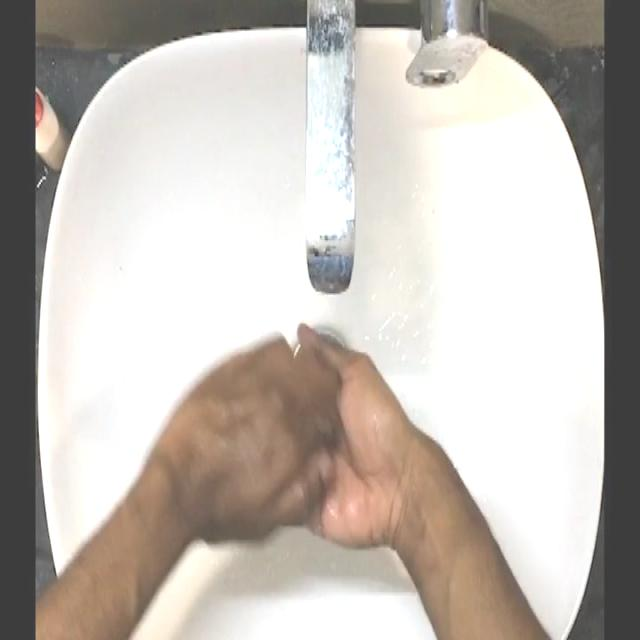step_4: (185, 316, 416, 556)
